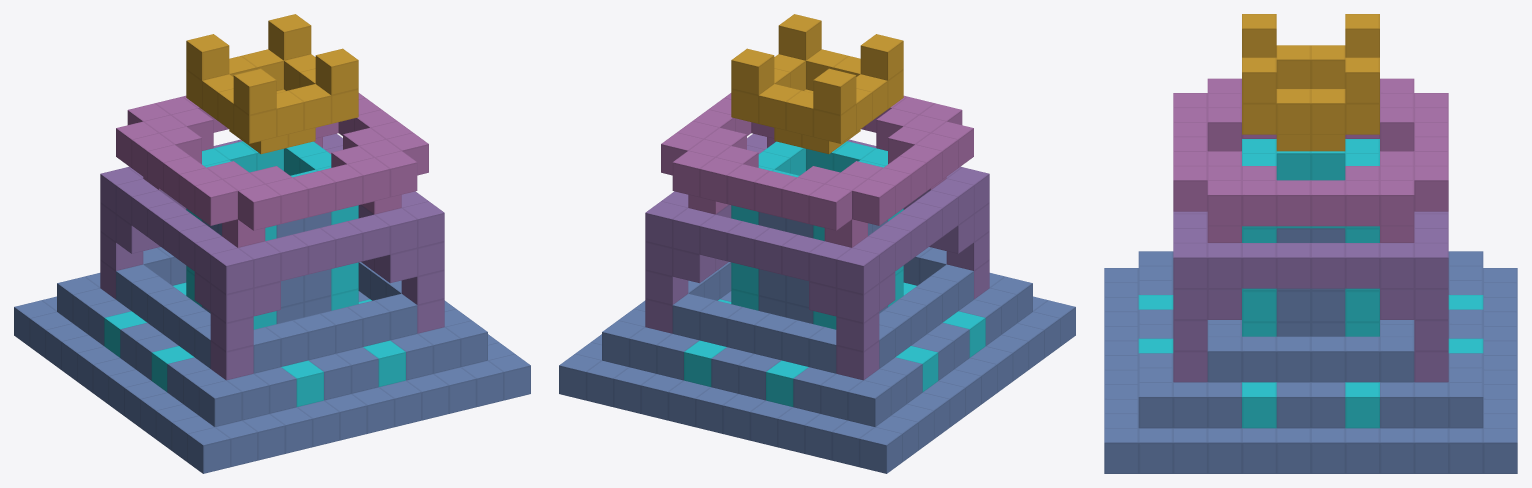
Rendered from startup.glb.
3 views of the same model, side by side, from view 1: azimuth 30°, elevation 25°; view 2: azimuth 150°, elevation 25°; view 3: azimuth 270°, elevation 25° (orthographic). The views are drawn at different scales.
Parts seen in each view (by area): view 1: baked (×5); view 2: baked (×5); view 3: baked (×5).
Part boxes in pixels (x1,y1,x2,y2): baked (×5): (14, 14, 530, 473); baked (×5): (559, 14, 1075, 473); baked (×5): (1104, 14, 1517, 473).
Bounding box in the file's own units: 12 × 11 × 12.
5 materials, 5 textured.
